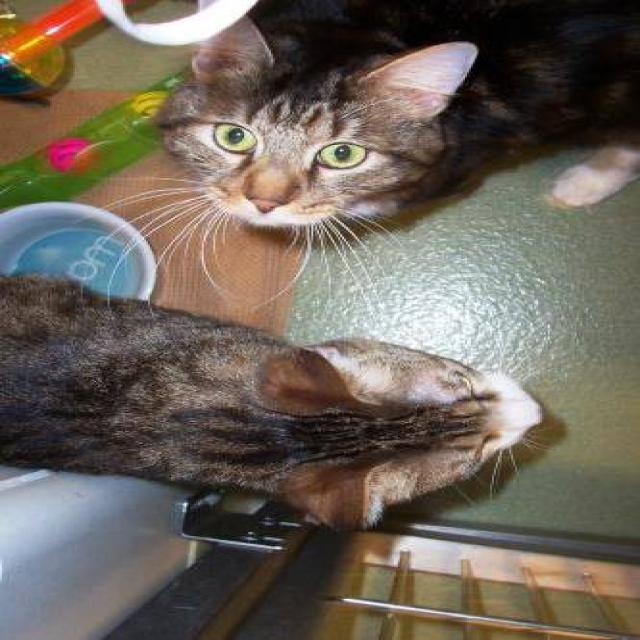cat: (98, 0, 638, 309), (0, 271, 550, 531)
